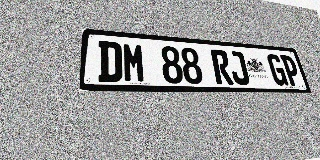8: (160, 45, 184, 83), (180, 47, 204, 84)
D: (98, 41, 122, 82)
G: (266, 54, 289, 86)
J: (227, 51, 250, 85)
M: (122, 42, 146, 83)
P: (280, 55, 302, 86)
R: (210, 49, 234, 84)
